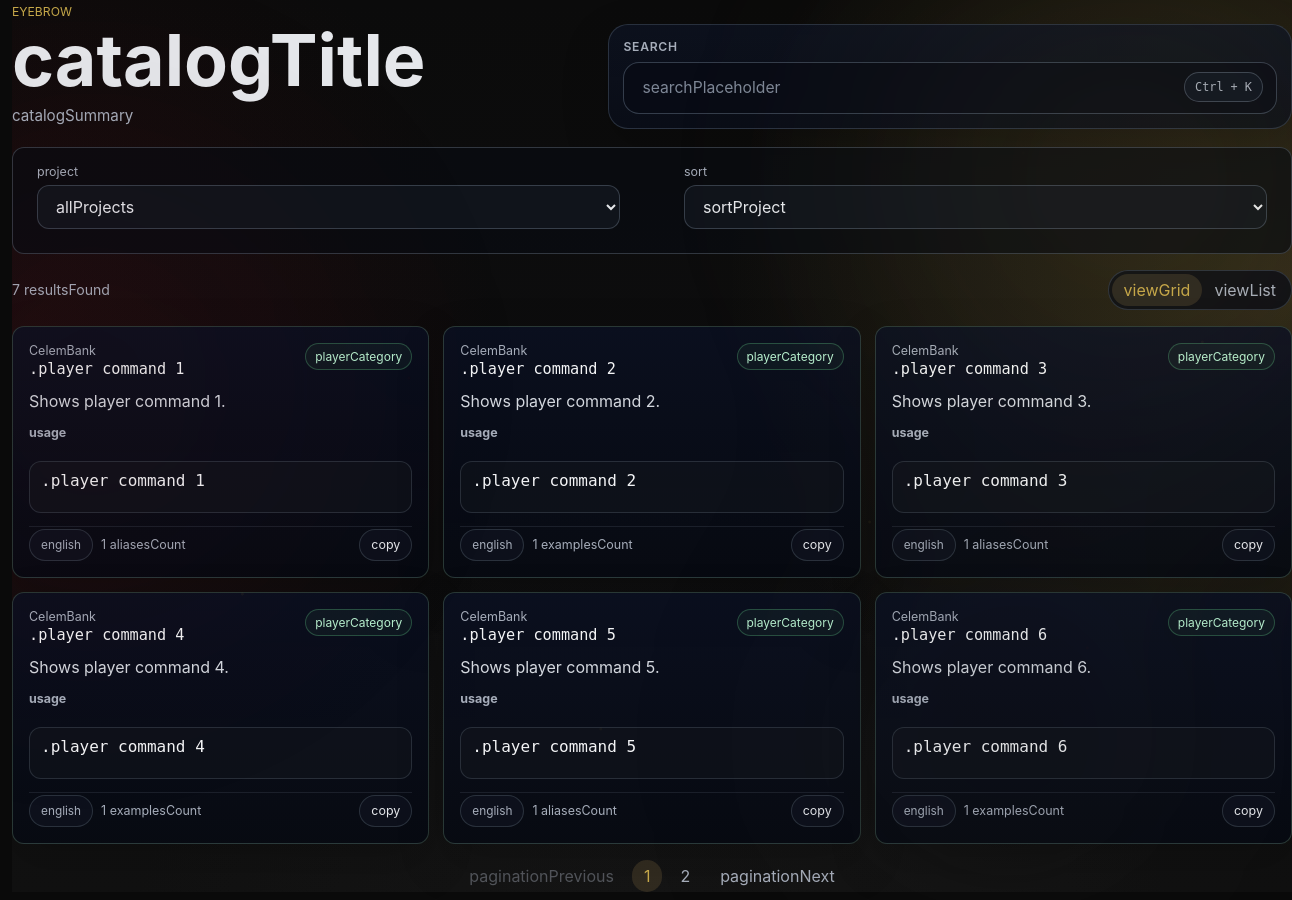
Test: CommandCatalogComponent › navigates with previous and next pagination arrows
The image size is (1292, 900).
Expected: the button "paginationPrevious" is disabled, [457,860,626,892]
Step 1. Click the button "paginationNext" → (777, 876), box [708,860,847,892]
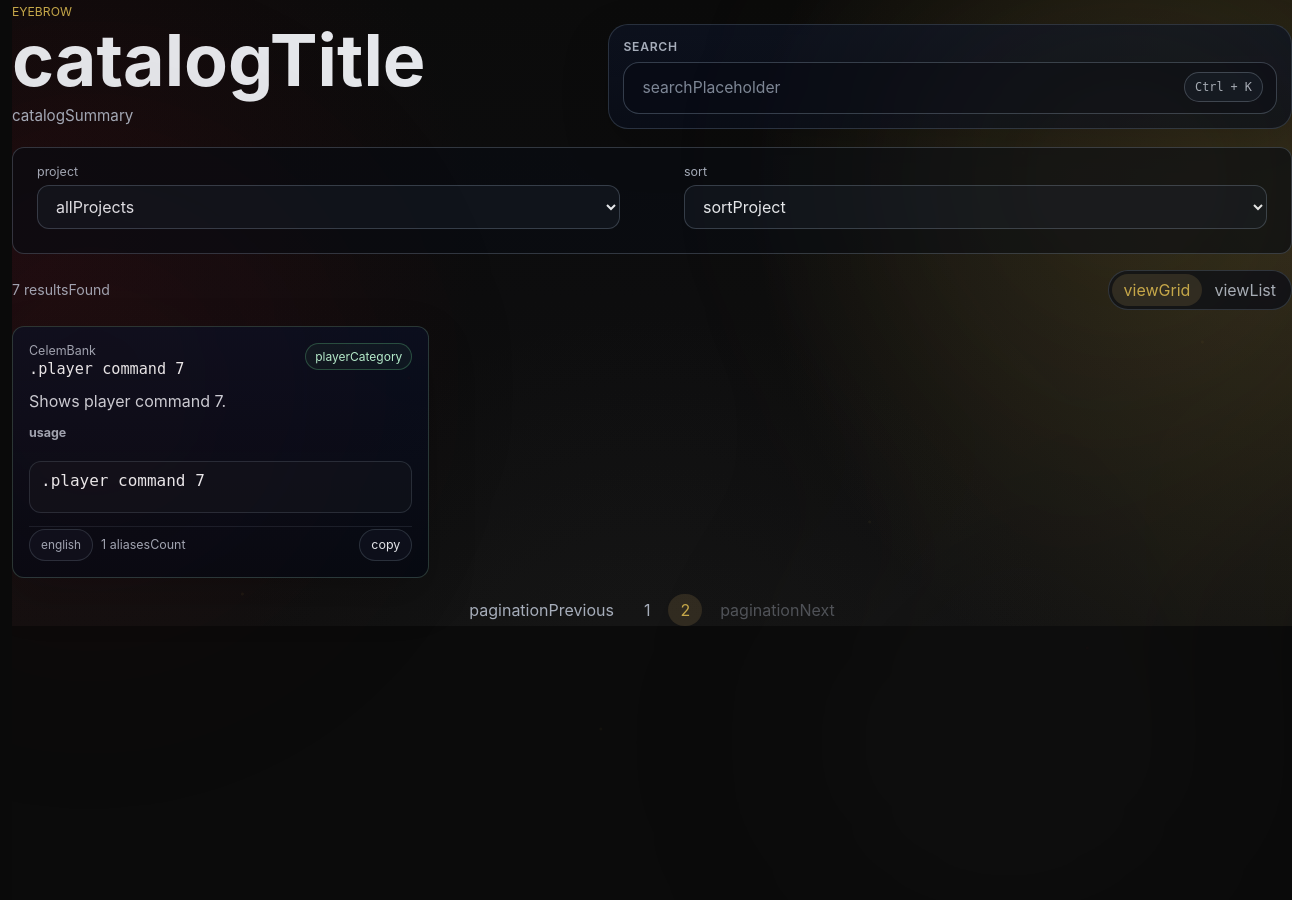
Now the text ".player command 7" is shown, box [29,360,184,378]
Now the button "paginationPrevious" is enabled
Now the button "paginationNext" is disabled, box [708,594,847,626]
Step 2. Click the button "paginationPrevious" → (542, 610), box [457,594,626,626]
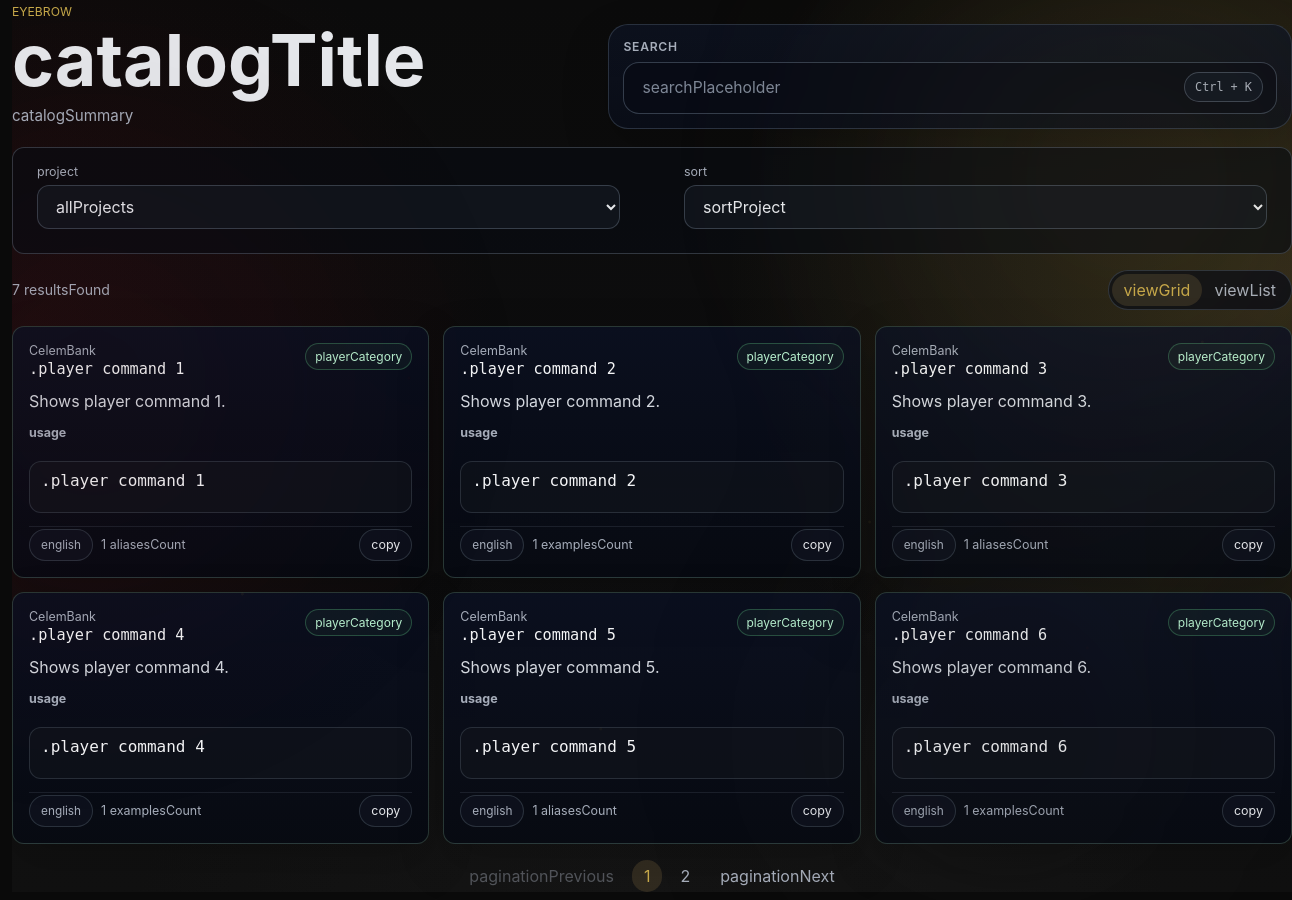
Now the text ".player command 1" is shown, box [29,360,184,378]
Now the text ".player command 7" is gone
